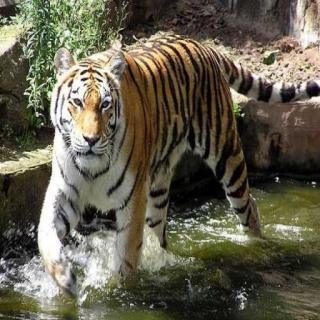Tiger: (36, 29, 294, 294)
